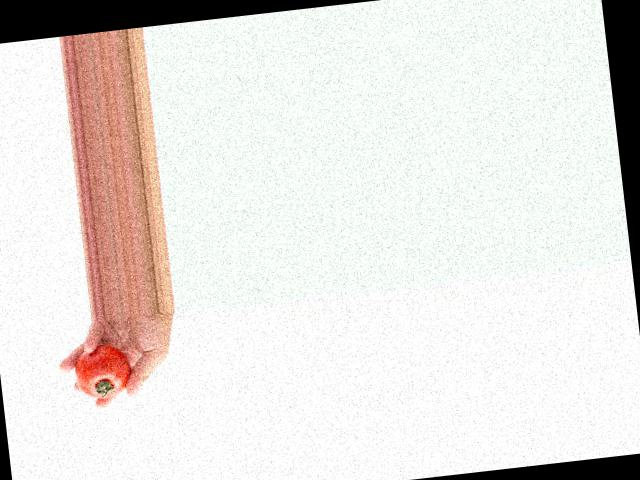tomato: (71, 342, 133, 400)
